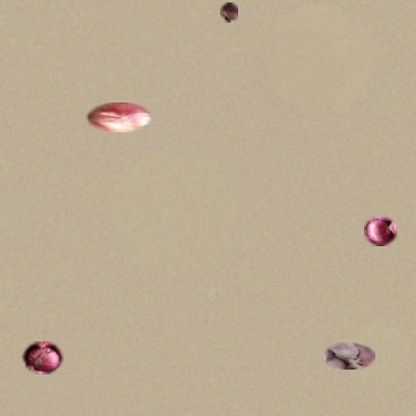healthy: (22, 341, 63, 375), (364, 215, 397, 246)
rotten: (85, 102, 152, 132)
sprouted: (322, 342, 375, 370), (220, 2, 238, 23)
